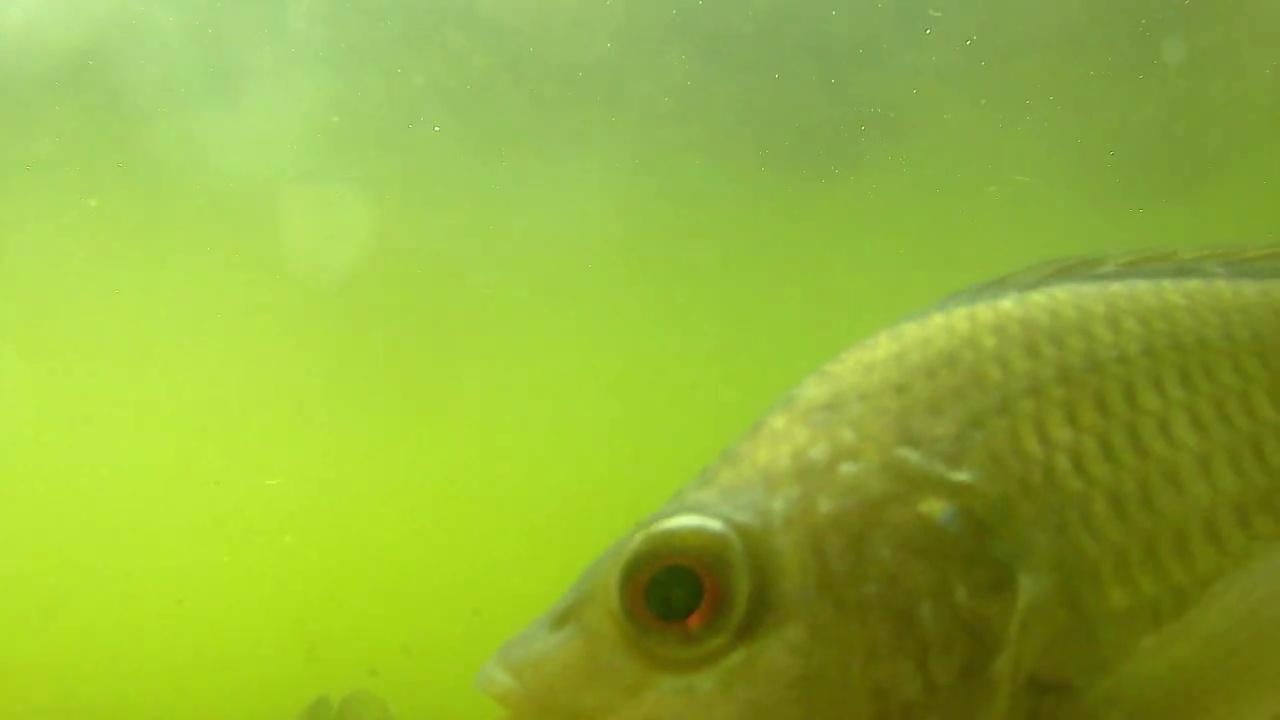Tilapia: (485, 248, 1280, 720)
